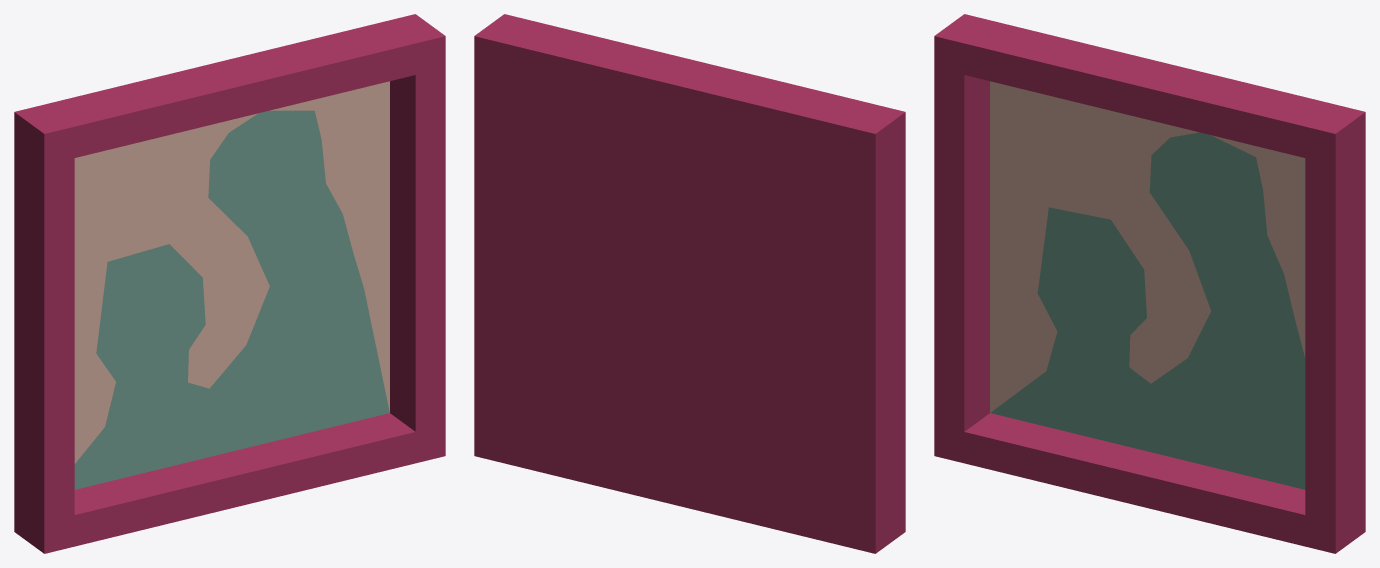
Rendered from Picture_01.fbx.
3 views of the same model, side by side, from view 1: azimuth 30°, elevation 25°; view 2: azimuth 150°, elevation 25°; view 3: azimuth 330°, elevation 25° (orthographic).
Parts seen in each view (by area): view 1: Picture_01; view 2: Picture_01; view 3: Picture_01.
Boxes of the visible parts, bbox=[...] form: Picture_01: bbox=[14, 14, 445, 553]; Picture_01: bbox=[474, 14, 905, 553]; Picture_01: bbox=[934, 14, 1365, 553].
Size of the model in its own units: 765 by 765 by 99.72.
